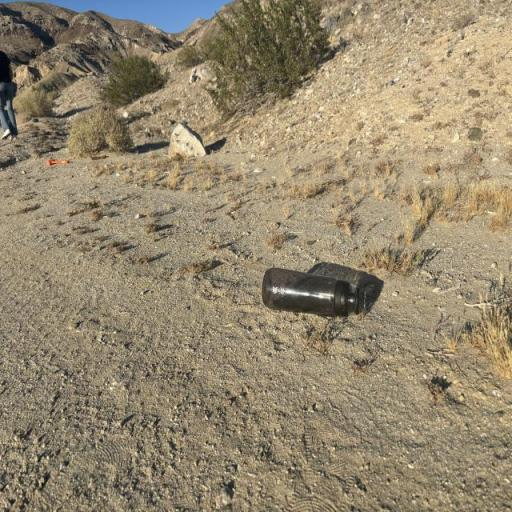bottle: (262, 266, 362, 324)
mallet: (44, 151, 74, 174)
